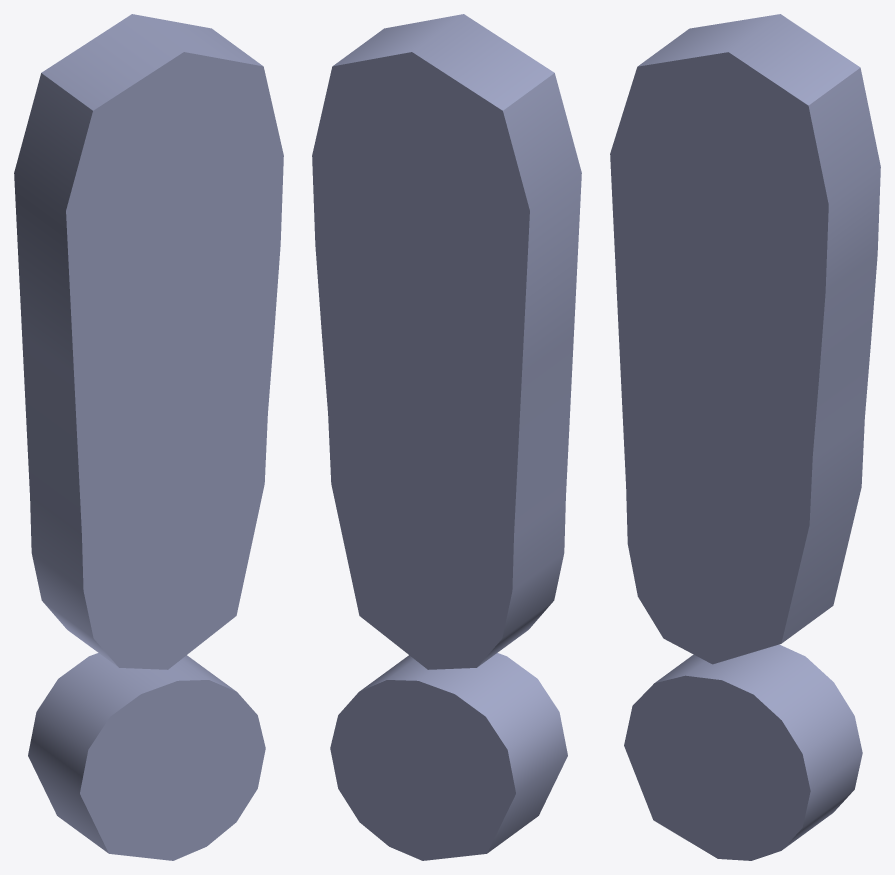
File: Exclamation Mark_2.fbx
3 views of the same model, side by side, from view 1: azimuth 30°, elevation 25°; view 2: azimuth 150°, elevation 25°; view 3: azimuth 330°, elevation 25° (orthographic).
Parts seen in each view (by area): view 1: Exclamation Mark_2; view 2: Exclamation Mark_2; view 3: Exclamation Mark_2.
Boxes of the visible parts, x1,y1,x2,y2 form: Exclamation Mark_2: (14, 14, 283, 860); Exclamation Mark_2: (312, 14, 581, 860); Exclamation Mark_2: (610, 14, 880, 860).
Bounding box in the file's own units: 0.0481 × 0.1702 × 0.0199.
